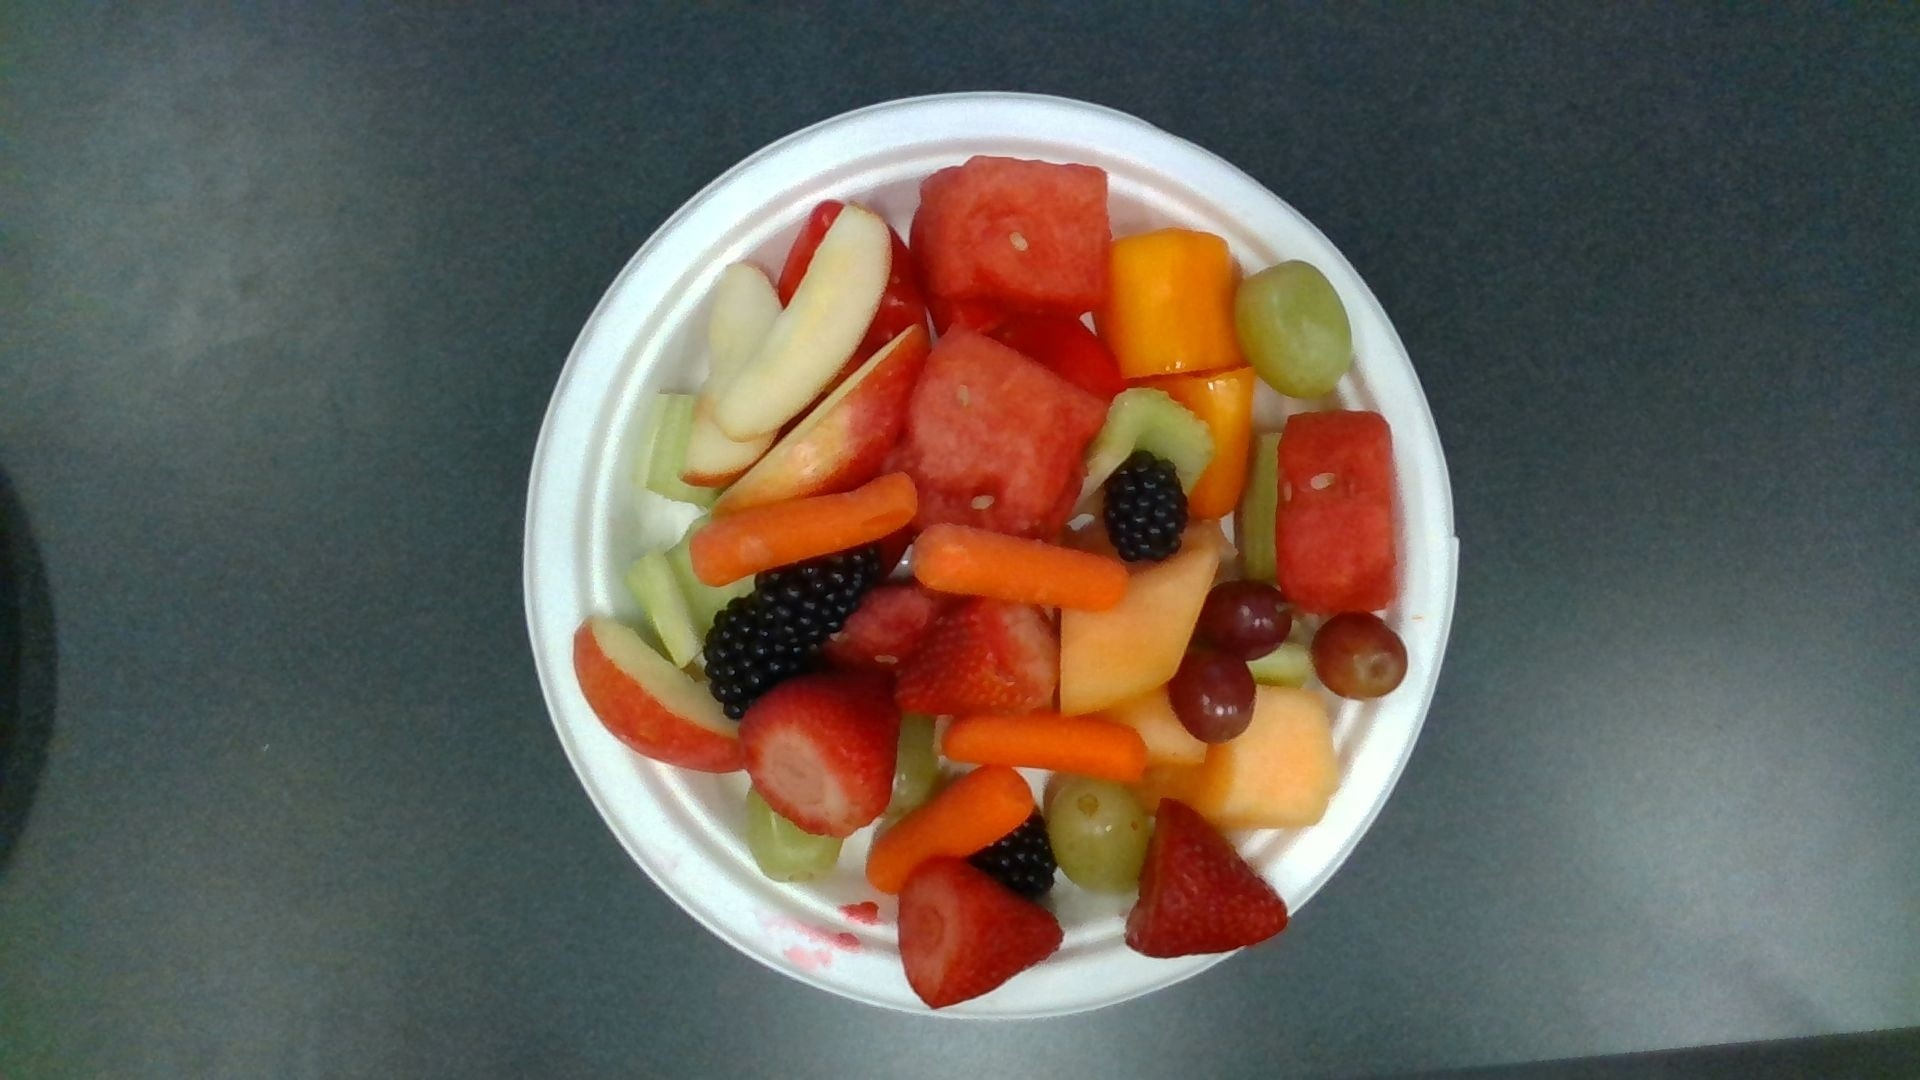apple: (684, 203, 890, 483), (712, 330, 928, 516), (574, 620, 746, 771)
bell_pepper: (1095, 231, 1240, 376)
blackberry: (705, 597, 814, 720), (1105, 450, 1187, 563)
cantalope: (1055, 545, 1220, 711), (1156, 688, 1335, 823)
carrot: (692, 475, 915, 585), (865, 765, 1036, 895), (914, 526, 1129, 608), (945, 711, 1147, 785)
grape_green: (1236, 261, 1354, 393), (1048, 781, 1147, 891)
grape_purple: (1170, 647, 1255, 741), (1312, 613, 1404, 696)
melon: (899, 330, 1098, 530), (922, 156, 1116, 310), (1276, 411, 1396, 608)
strawberry: (738, 673, 899, 836), (897, 860, 1064, 1007), (1130, 800, 1284, 957), (895, 603, 1060, 711)
